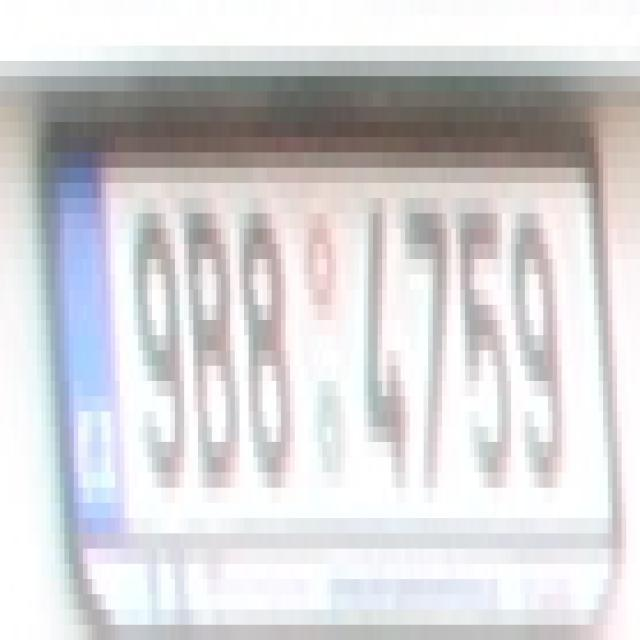4: (364, 168, 410, 502)
5: (456, 198, 512, 488)
7: (409, 167, 452, 518)
8: (234, 198, 294, 533)
9: (120, 168, 180, 488), (511, 168, 566, 488)
B: (184, 168, 234, 488)
